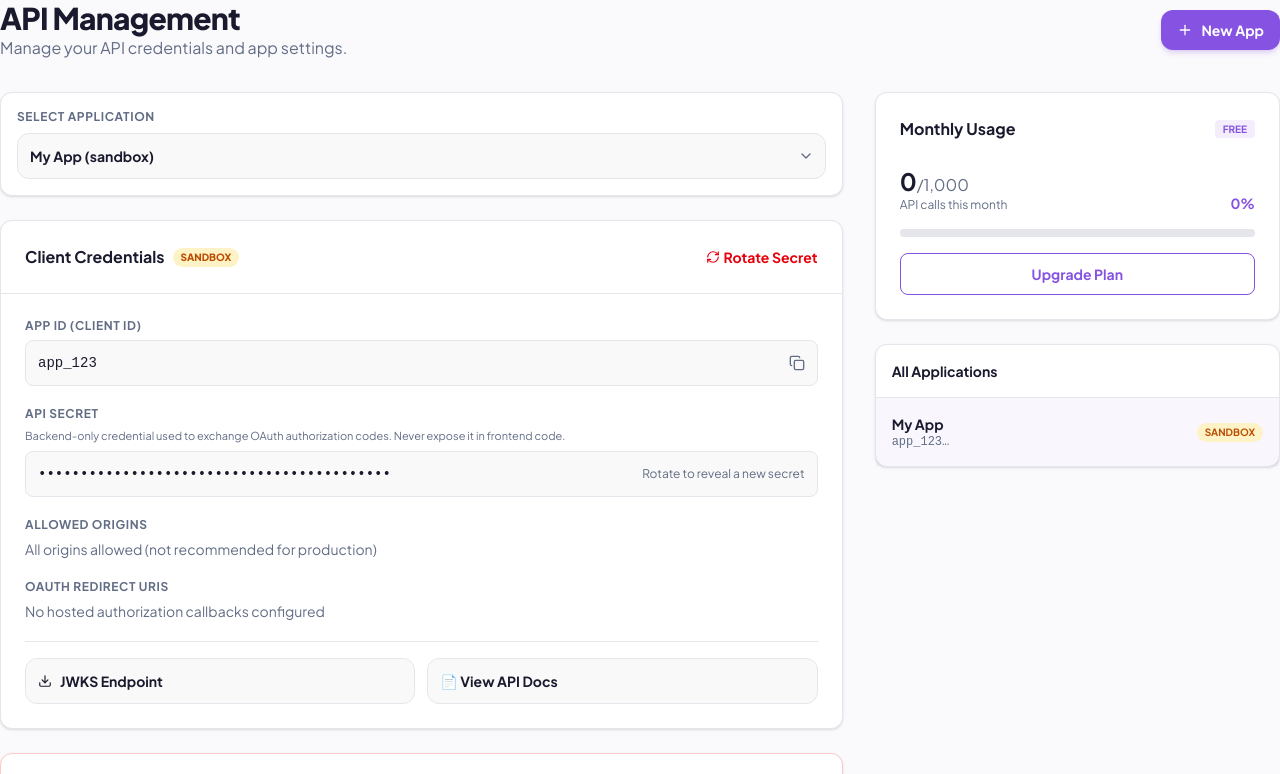
Test: APIManagement › opens upgrade plan modal
Expected: the text "My App" is shown, [892,414,949,434]
Click the button "Upgrade Plan".
click(1077, 274)  # box [900,253,1255,295]
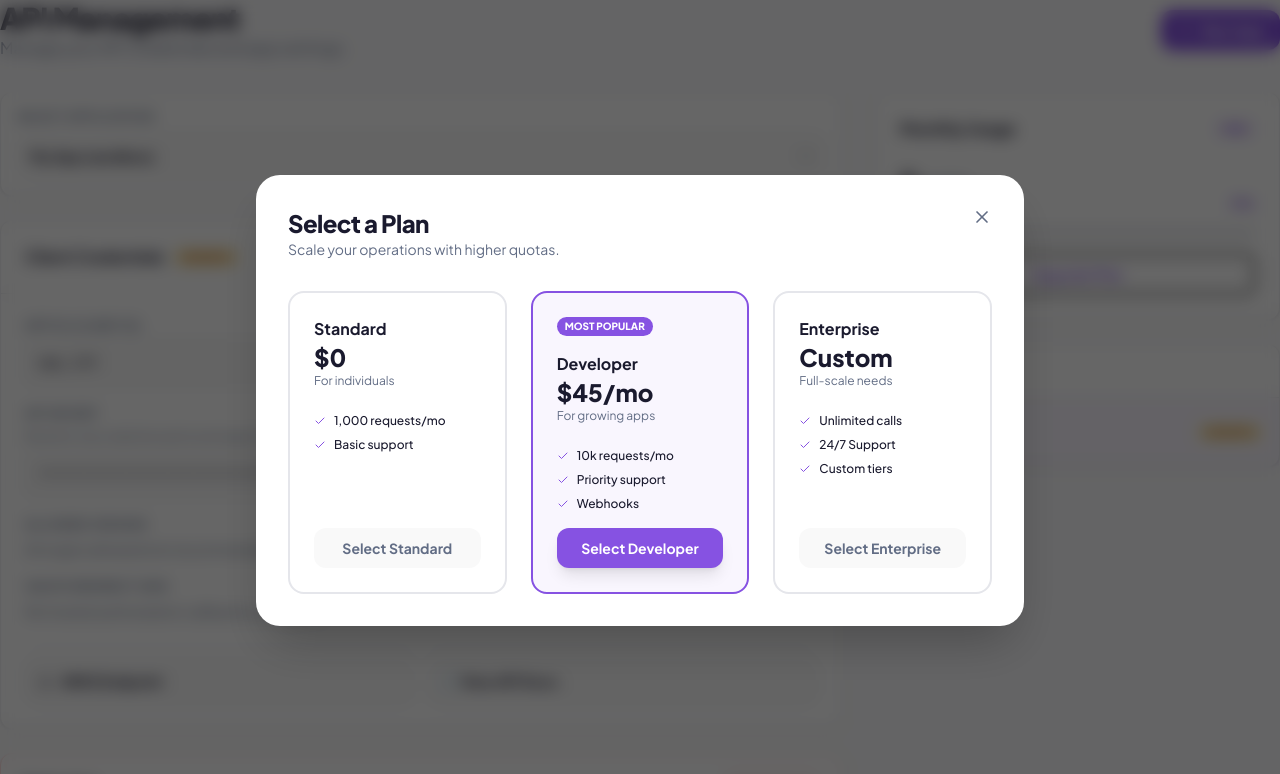
Expected: the heading "Standard" is shown, [314,318,386,338]
Expected: the heading "Developer" is shown, [557,352,638,374]
Expected: the heading "Enterprise" is shown, [799,318,879,338]
